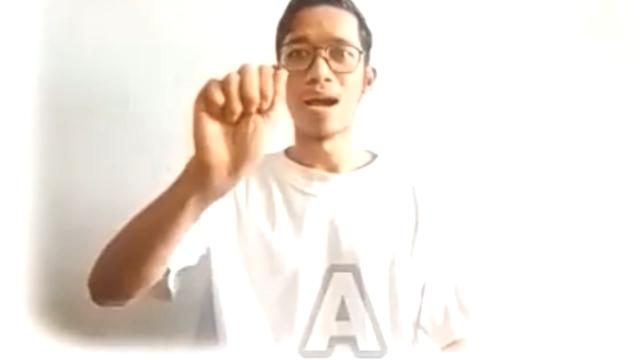A: (176, 61, 294, 202)
